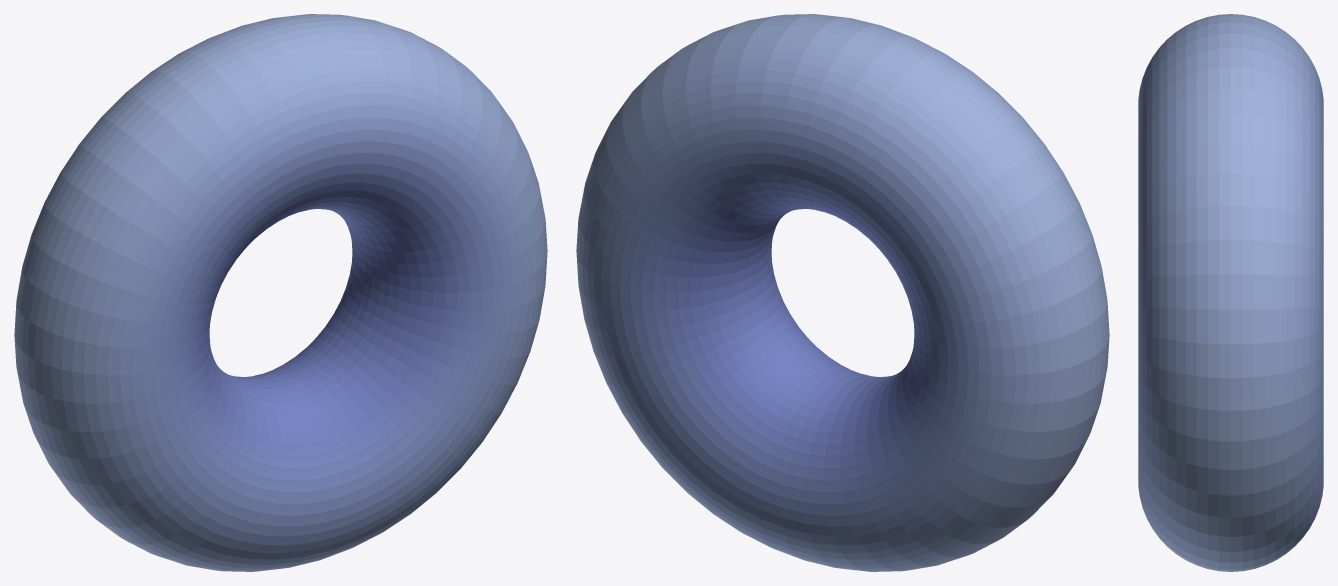
The picture shows the model from 3 angles, left to right: view 1: azimuth 30°, elevation 25°; view 2: azimuth 150°, elevation 25°; view 3: azimuth 270°, elevation 25°; orthographic projection. The views are drawn at different scales.
Parts seen in each view (by area): view 1: world; view 2: world; view 3: world.
Part boxes in pixels (box(x1,y1,x2,y2)): world: box(14, 14, 547, 571); world: box(576, 14, 1109, 571); world: box(1138, 14, 1323, 571).
Size of the model in its own units: 18 by 17.96 by 5.99.
